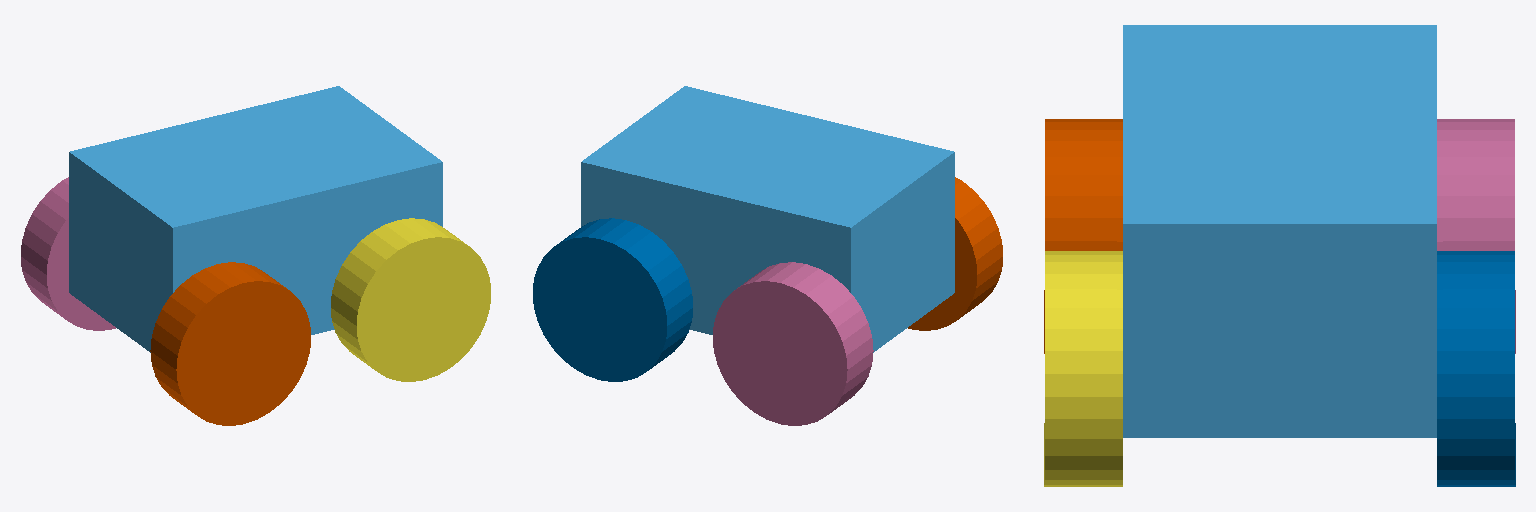
The robot description file, URDF, robot "example":
<?xml version="1.0" ?>
<!-- =================================================================================== -->
<!-- |    This document was autogenerated by xacro from robot.urdf.xacro               | -->
<!-- |    EDITING THIS FILE BY HAND IS NOT RECOMMENDED                                 | -->
<!-- =================================================================================== -->
<robot name="example">
  <link name="base_origin">
    <visual>
      <origin rpy="0 0 0" xyz="0 0 0"/>
    </visual>
  </link>
  <link name="base_link">
    <visual>
      <origin rpy="0 0 0" xyz="0 0 0.25"/>
      <geometry>
        <box size="0.6 0.4 0.3"/>
      </geometry>
    </visual>
    <inertial>
      <mass value="1e-5"/>
      <origin rpy="0 0 0" xyz="0 0 0"/>
      <inertia ixx="1e-6" ixy="0" ixz="0" iyy="1e-6" iyz="0" izz="1e-6"/>
    </inertial>
  </link>
  <joint name="base_link_joint" type="fixed">
    <origin rpy="0 0 0" xyz="0.0 0 -0.75"/>
    <parent link="base_origin"/>
    <child link="base_link"/>
  </joint>
  <link name="base_lidar">
    <visual>
      <origin rpy="0 0 0" xyz="0 0 -0.3"/>
      <geometry>
        <cylinder length="0.25" radius="0.03"/>
      </geometry>
    </visual>
    <inertial>
      <mass value="1e-5"/>
      <origin rpy="0 0 0" xyz="0 0 0"/>
      <inertia ixx="1e-6" ixy="0" ixz="0" iyy="1e-6" iyz="0" izz="1e-6"/>
    </inertial>
  </link>
  <joint name="base_lidar_joint" type="fixed">
    <origin rpy="0 0 0" xyz="0.0 0 0.40"/>
    <parent link="base_link"/>
    <child link="base_lidar"/>
  </joint>
  <link name="left_front_wheel">
    <visual>
      <origin rpy="0 0 0" xyz="0 0 0"/>
      <geometry>
        <cylinder length="0.1" radius="0.15"/>
      </geometry>
    </visual>
    <inertial>
      <mass value="1e-5"/>
      <origin rpy="0 0 0" xyz="0 0 0"/>
      <inertia ixx="1e-6" ixy="0" ixz="0" iyy="1e-6" iyz="0" izz="1e-6"/>
    </inertial>
  </link>
  <joint name="left_front_joint" type="fixed">
    <origin rpy="1.57 0 0" xyz="0.2 -0.25 0.15"/>
    <parent link="base_link"/>
    <child link="left_front_wheel"/>
  </joint>
  <link name="right_front_wheel">
    <visual>
      <origin rpy="0 0 0" xyz="0 0 0"/>
      <geometry>
        <cylinder length="0.1" radius="0.15"/>
      </geometry>
    </visual>
    <inertial>
      <mass value="1e-5"/>
      <origin rpy="0 0 0" xyz="0 0 0"/>
      <inertia ixx="1e-6" ixy="0" ixz="0" iyy="1e-6" iyz="0" izz="1e-6"/>
    </inertial>
  </link>
  <joint name="right_front_joint" type="fixed">
    <origin rpy="-1.57 0 0" xyz="0.2 0.25 0.15"/>
    <parent link="base_link"/>
    <child link="right_front_wheel"/>
  </joint>
  <link name="left_rear_wheel">
    <visual>
      <origin rpy="0 0 0" xyz="0 0 0"/>
      <geometry>
        <cylinder length="0.1" radius="0.15"/>
      </geometry>
    </visual>
    <inertial>
      <mass value="1e-5"/>
      <origin rpy="0 0 0" xyz="0 0 0"/>
      <inertia ixx="1e-6" ixy="0" ixz="0" iyy="1e-6" iyz="0" izz="1e-6"/>
    </inertial>
  </link>
  <joint name="left_rear_joint" type="fixed">
    <origin rpy="1.57 0 0" xyz="-0.2 -0.25 0.15"/>
    <parent link="base_link"/>
    <child link="left_rear_wheel"/>
  </joint>
  <link name="right_rear_wheel">
    <visual>
      <origin rpy="0 0 0" xyz="0 0 0"/>
      <geometry>
        <cylinder length="0.1" radius="0.15"/>
      </geometry>
    </visual>
    <inertial>
      <mass value="1e-5"/>
      <origin rpy="0 0 0" xyz="0 0 0"/>
      <inertia ixx="1e-6" ixy="0" ixz="0" iyy="1e-6" iyz="0" izz="1e-6"/>
    </inertial>
  </link>
  <joint name="right_rear_joint" type="fixed">
    <origin rpy="-1.57 0 0" xyz="-0.2 0.25 0.15"/>
    <parent link="base_link"/>
    <child link="right_rear_wheel"/>
  </joint>
  <gazebo reference="base_link">
    <material>Gazebo/Red</material>
  </gazebo>
  <gazebo reference="base_lidar">
    <material>Gazebo/Black</material>
  </gazebo>
  <gazebo reference="left_front_wheel">
    <material>Gazebo/Black</material>
  </gazebo>
  <gazebo reference="left_rear_wheel">
    <material>Gazebo/Black</material>
  </gazebo>
  <gazebo reference="right_front_wheel">
    <material>Gazebo/Black</material>
  </gazebo>
  <gazebo reference="right_rear_wheel">
    <material>Gazebo/Black</material>
  </gazebo>
</robot>

--- Facts derived from the render (not from the file) ---
3 views of the same robot in one strip: view 1: azimuth 30°, elevation 25°; view 2: azimuth 150°, elevation 25°; view 3: azimuth 270°, elevation 25° (orthographic).
Robot: example — 7 links, 6 joints (6 fixed); root link base_origin; default pose: all joints at 0.
Visible links, largest first — view 1: base_link, left_rear_wheel, left_front_wheel, right_rear_wheel; view 2: base_link, right_rear_wheel, right_front_wheel, left_rear_wheel; view 3: base_link, left_front_wheel, right_front_wheel, left_rear_wheel, right_rear_wheel.
Boxes of the visible links, x1,y1,x2,y2 form: base_link: (69,86,442,352); left_rear_wheel: (150,262,310,425); left_front_wheel: (331,218,490,381); right_rear_wheel: (21,177,115,330); base_link: (581,86,954,352); right_rear_wheel: (713,262,873,425); right_front_wheel: (533,218,692,381); left_rear_wheel: (908,177,1002,330); base_link: (1123,25,1436,437); left_front_wheel: (1044,251,1122,486); right_front_wheel: (1437,251,1515,486); left_rear_wheel: (1044,119,1122,353); right_rear_wheel: (1437,119,1515,353).
Size in the robot's own frame: 0.7 by 0.6002 by 0.425 metres.
Geometry: primitives only (box / cylinder / sphere), no mesh files.
